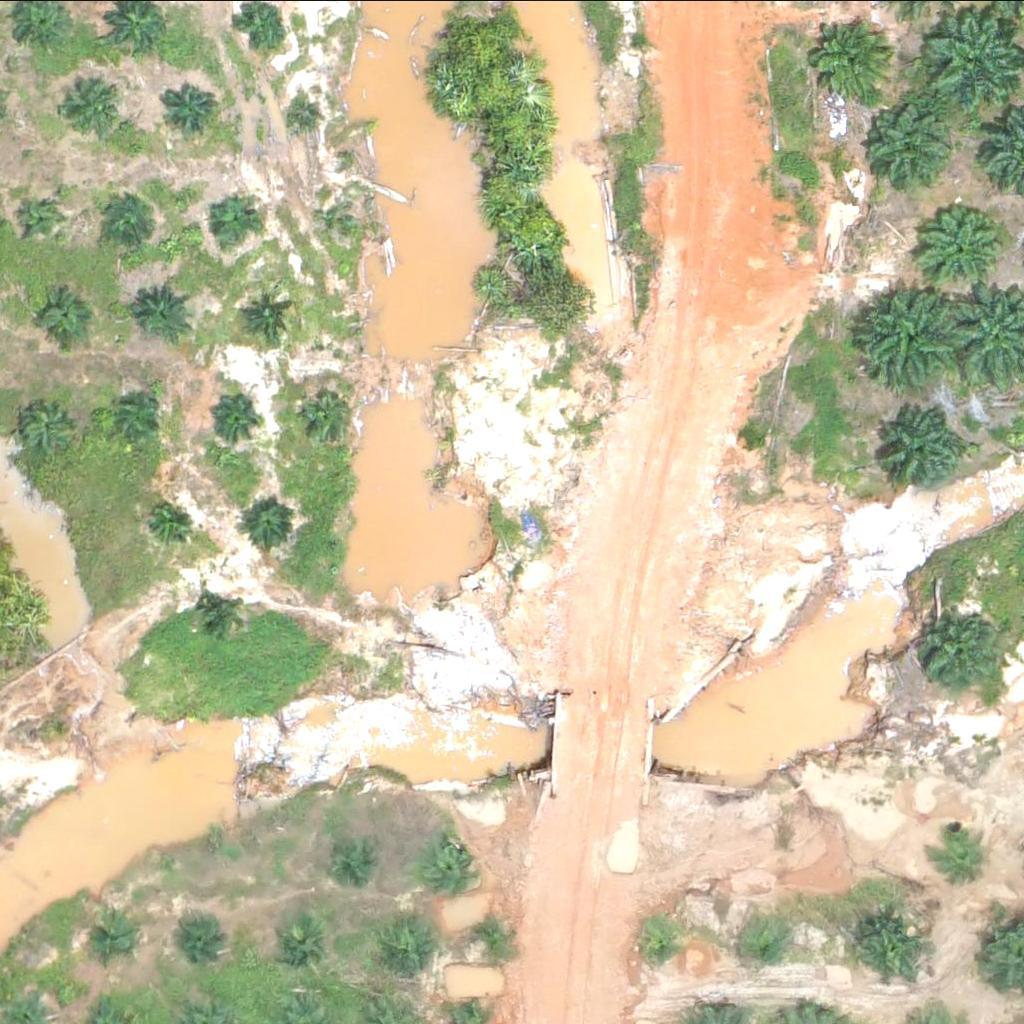Kelapa_Sawit: (856, 287, 957, 387), (866, 96, 954, 184), (921, 203, 1009, 291), (881, 404, 969, 492), (922, 606, 1010, 693), (809, 17, 897, 104), (858, 912, 934, 987), (373, 911, 436, 974), (136, 282, 199, 345), (65, 74, 128, 136), (268, 912, 331, 974), (930, 818, 993, 880), (464, 911, 515, 961), (203, 197, 254, 247), (104, 193, 155, 243), (41, 295, 92, 345), (26, 401, 77, 451), (109, 390, 160, 440), (207, 390, 258, 440), (246, 290, 297, 340), (169, 82, 219, 132), (236, 1, 286, 51), (179, 908, 229, 958), (89, 912, 139, 962), (247, 499, 297, 549), (430, 840, 480, 890), (325, 830, 375, 880), (638, 918, 688, 968), (745, 922, 795, 972), (308, 388, 358, 438), (143, 496, 193, 546), (199, 587, 249, 637), (20, 200, 58, 237), (289, 101, 314, 126), (323, 196, 348, 221)
